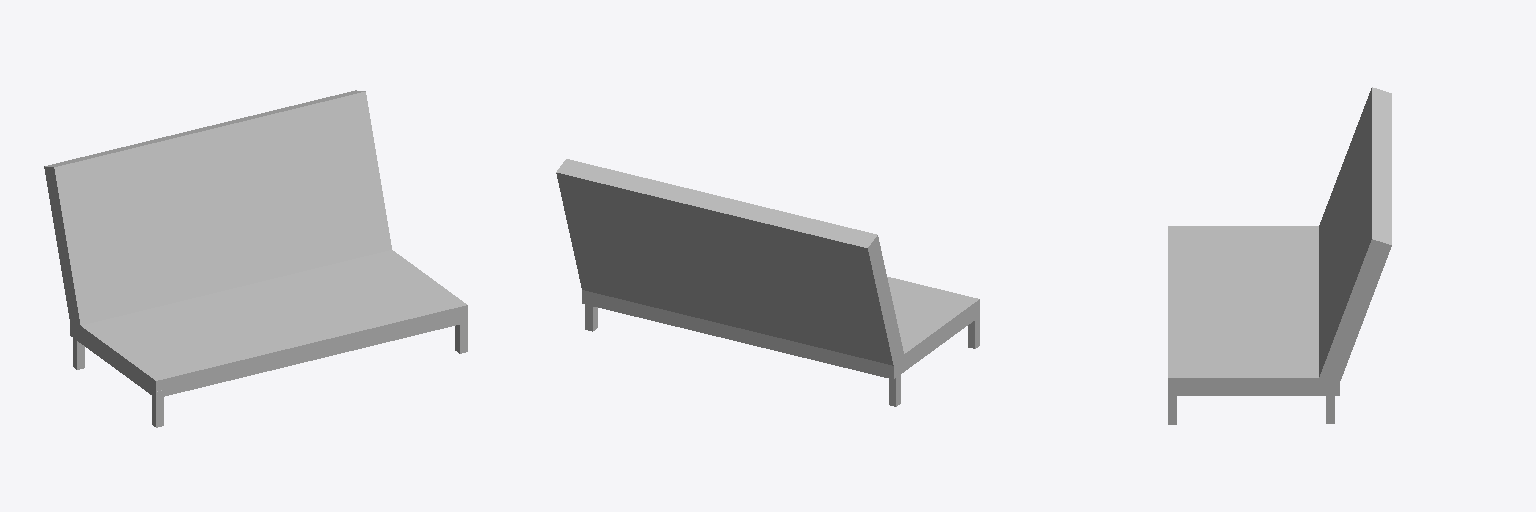
The model's file is divan.obj.
3 views of the same model, side by side, from view 1: azimuth 30°, elevation 25°; view 2: azimuth 150°, elevation 25°; view 3: azimuth 270°, elevation 25° (orthographic).
Visible parts, largest first — view 1: Cube.001, Cube; view 2: Cube.001, Cube; view 3: Cube, Cube.001.
Boxes of the visible parts, <box> form: Cube.001: <box>44,90,391,338</box>; Cube: <box>70,250,467,397</box>; Cube.001: <box>556,159,903,378</box>; Cube: <box>582,277,979,379</box>; Cube: <box>1168,226,1339,395</box>; Cube.001: <box>1315,87,1391,395</box>.
Size of the model in its own units: 4 by 2.28 by 2.49.